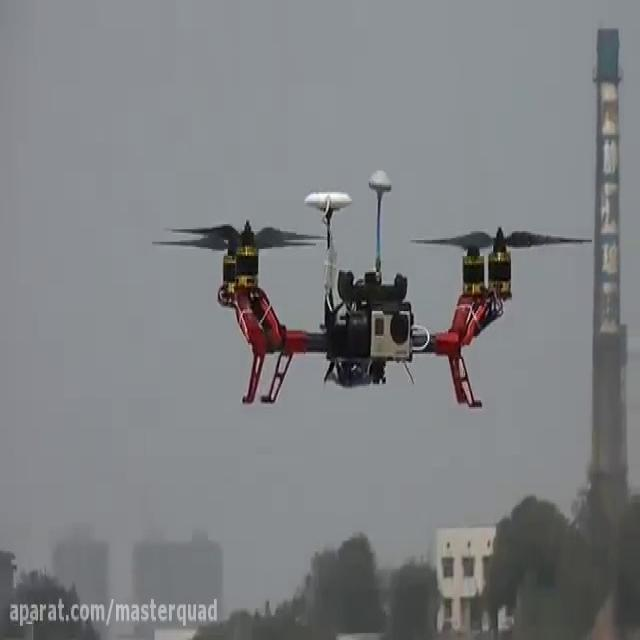drone: (147, 165, 592, 411)
